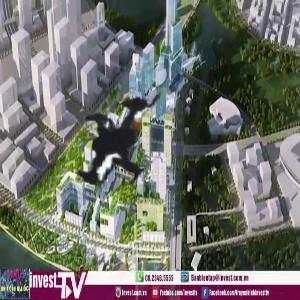drone: (6, 8, 299, 300)
